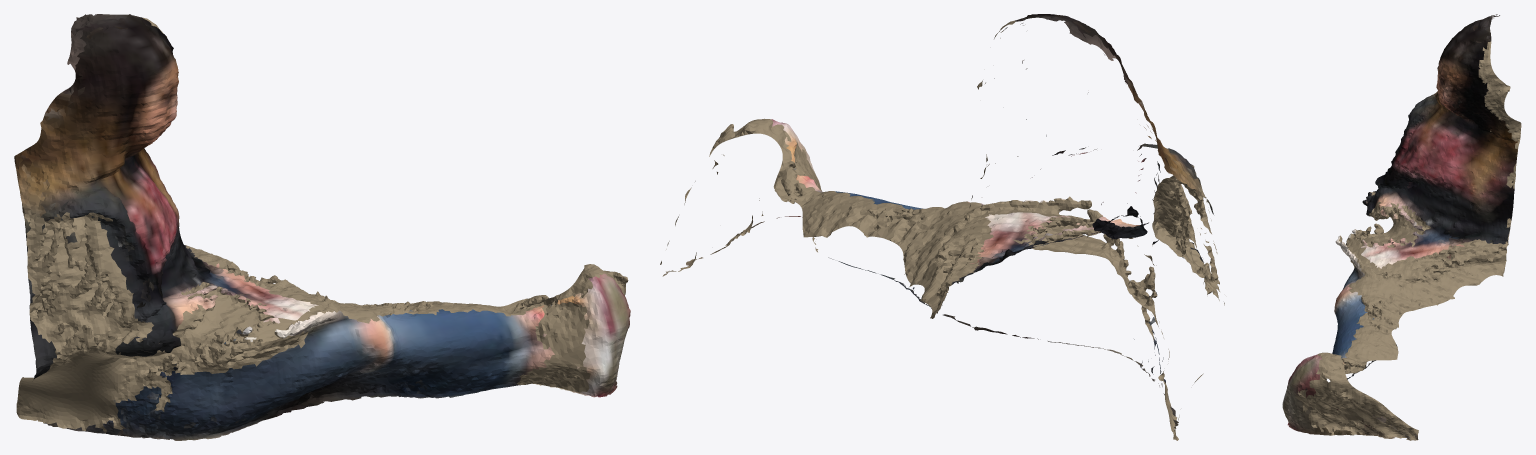
3 renders of one model, left to right at view 1: azimuth 30°, elevation 25°; view 2: azimuth 150°, elevation 25°; view 3: azimuth 270°, elevation 25°, orthographic. The views are drawn at different scales.
Size of the model in its own units: 1.12 by 0.7404 by 0.585.
Materials: 1 (1 with a texture image).
